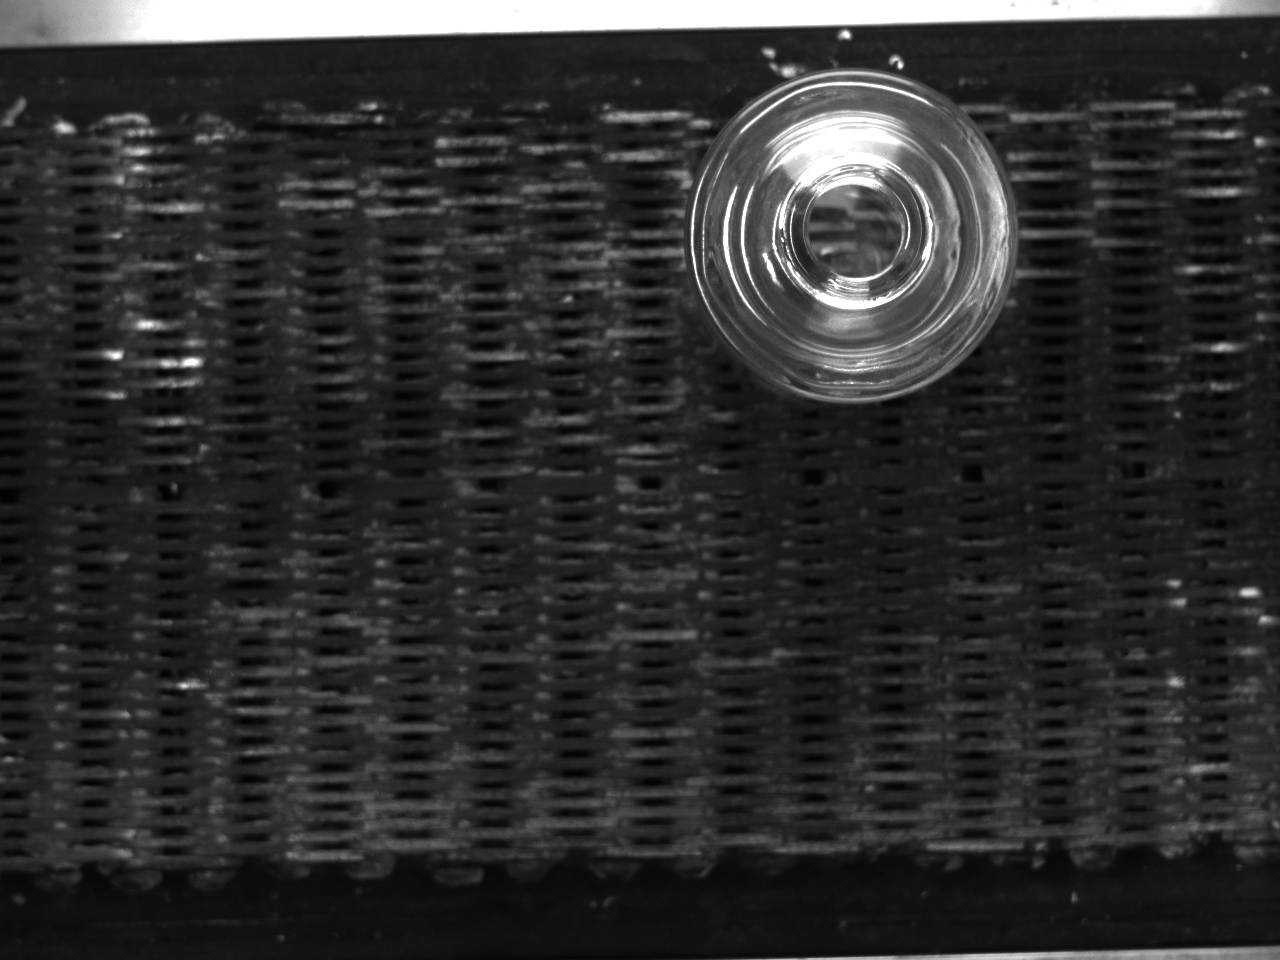bottleneck: (779, 155, 935, 310)
